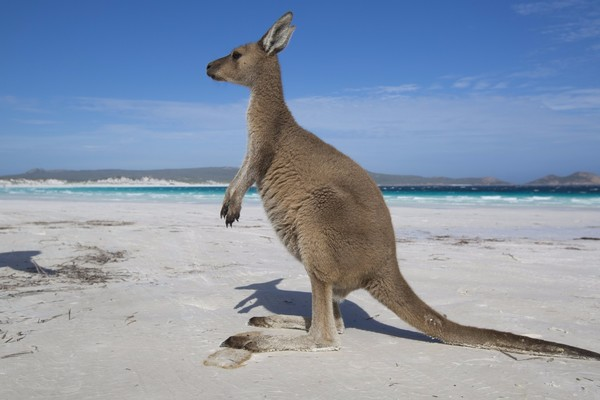kangaroo: (202, 10, 600, 374)
